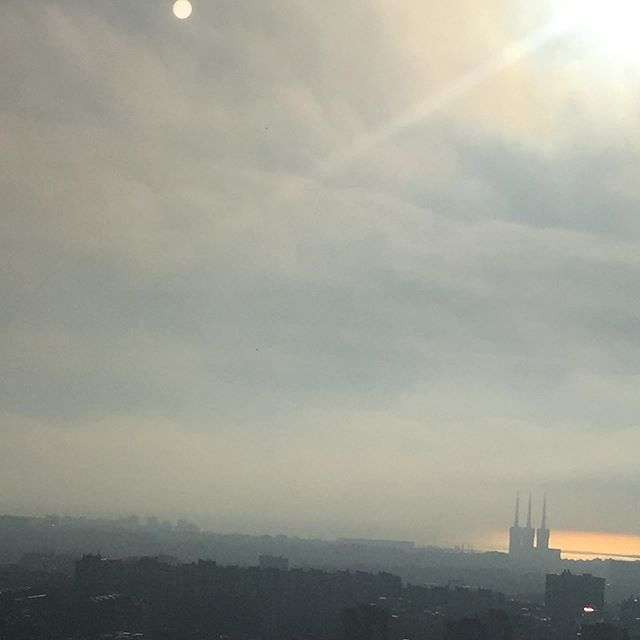building: (504, 501, 555, 565), (547, 572, 612, 622)
sky: (1, 1, 624, 518)
sun: (495, 1, 640, 94)
